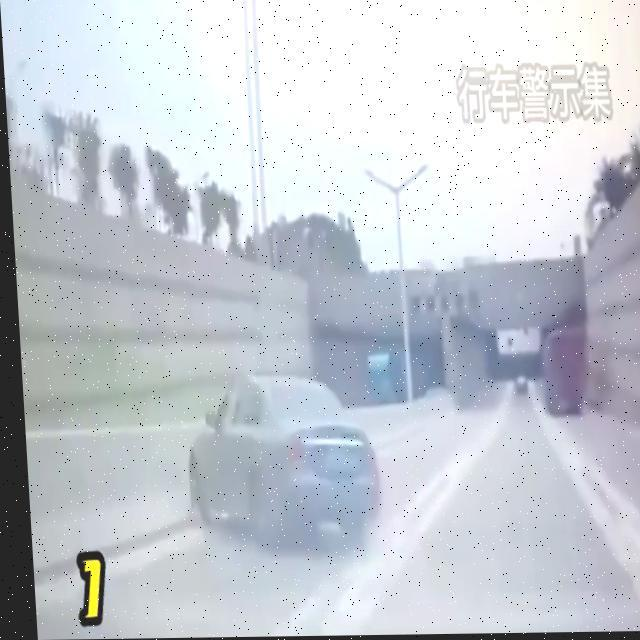single accident: (122, 349, 400, 552)
